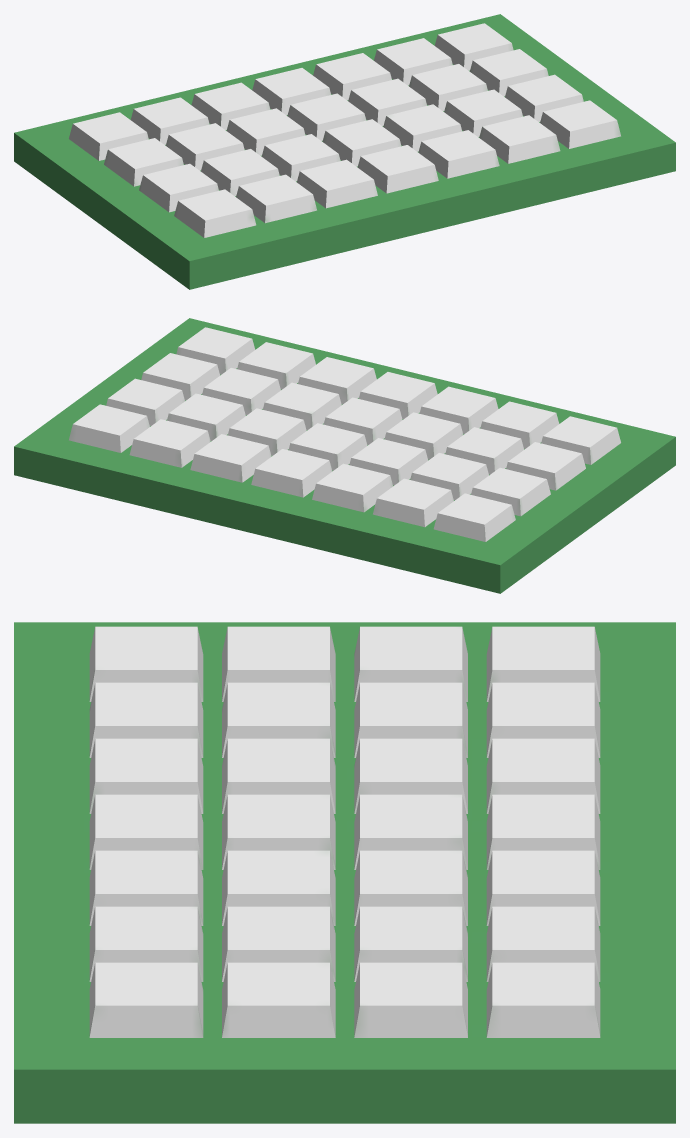
File: team keyboard.fbx
3 renders of one model, top to bottom at view 1: azimuth 30°, elevation 25°; view 2: azimuth 150°, elevation 25°; view 3: azimuth 270°, elevation 25°, orthographic. The views are drawn at different scales.
Parts seen in each view (by area): view 1: key board; view 2: key board; view 3: key board.
Part boxes in pixels (left/top/right/bottom): key board: left=14, top=14, right=675, bottom=289; key board: left=14, top=318, right=675, bottom=593; key board: left=14, top=622, right=675, bottom=1123.
Bounding box in the file's own units: 101 × 8.79 × 63.05.
1 material, 1 textured.
